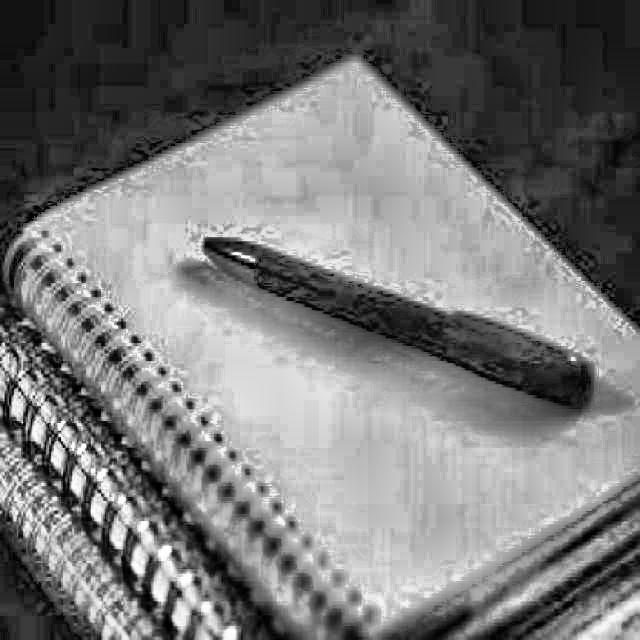Notebook: (46, 43, 640, 631)
Pen: (194, 219, 634, 424)
